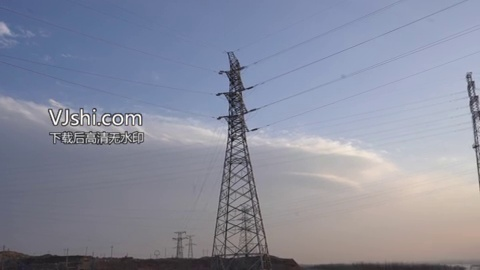tower_body: (209, 47, 282, 262)
tower_foot: (209, 220, 276, 260)
tower_head: (216, 50, 259, 88)
